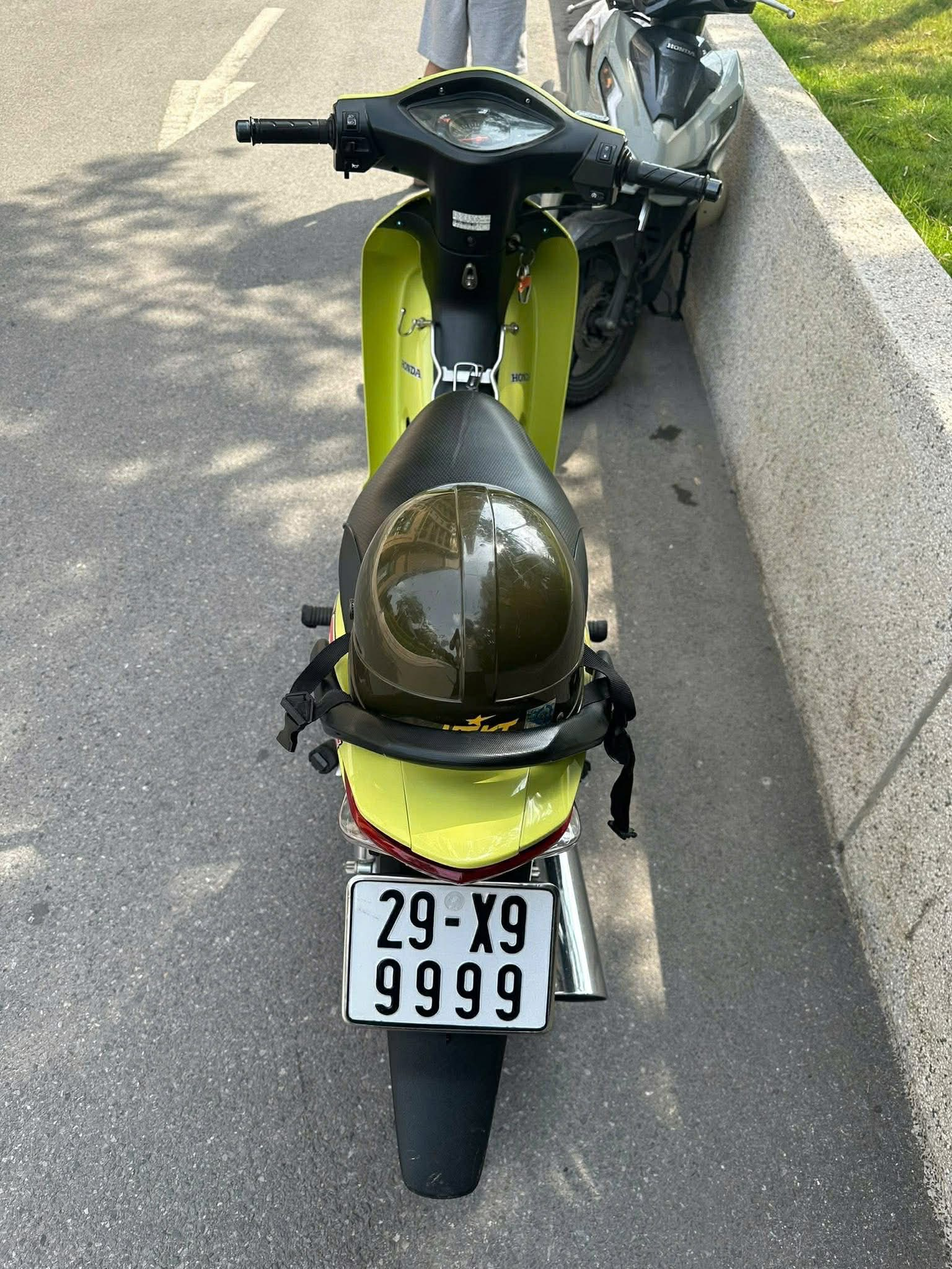bien_so: (328, 866, 568, 1046), (444, 857, 452, 865)
